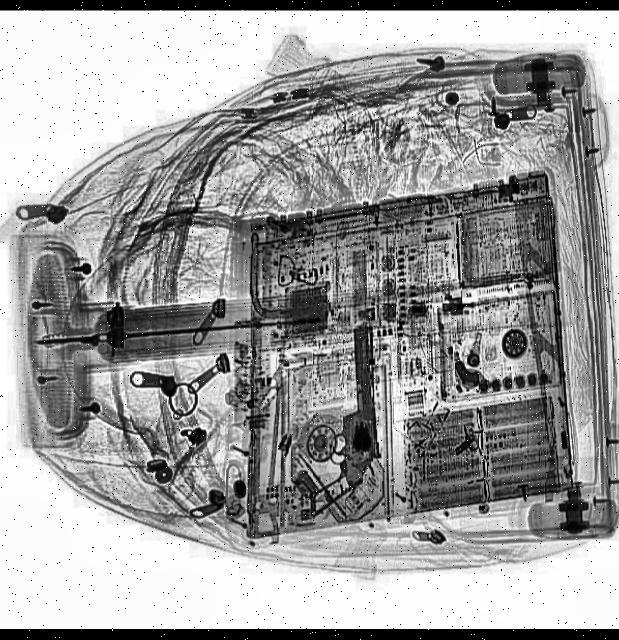Gun: (309, 324, 377, 519)
